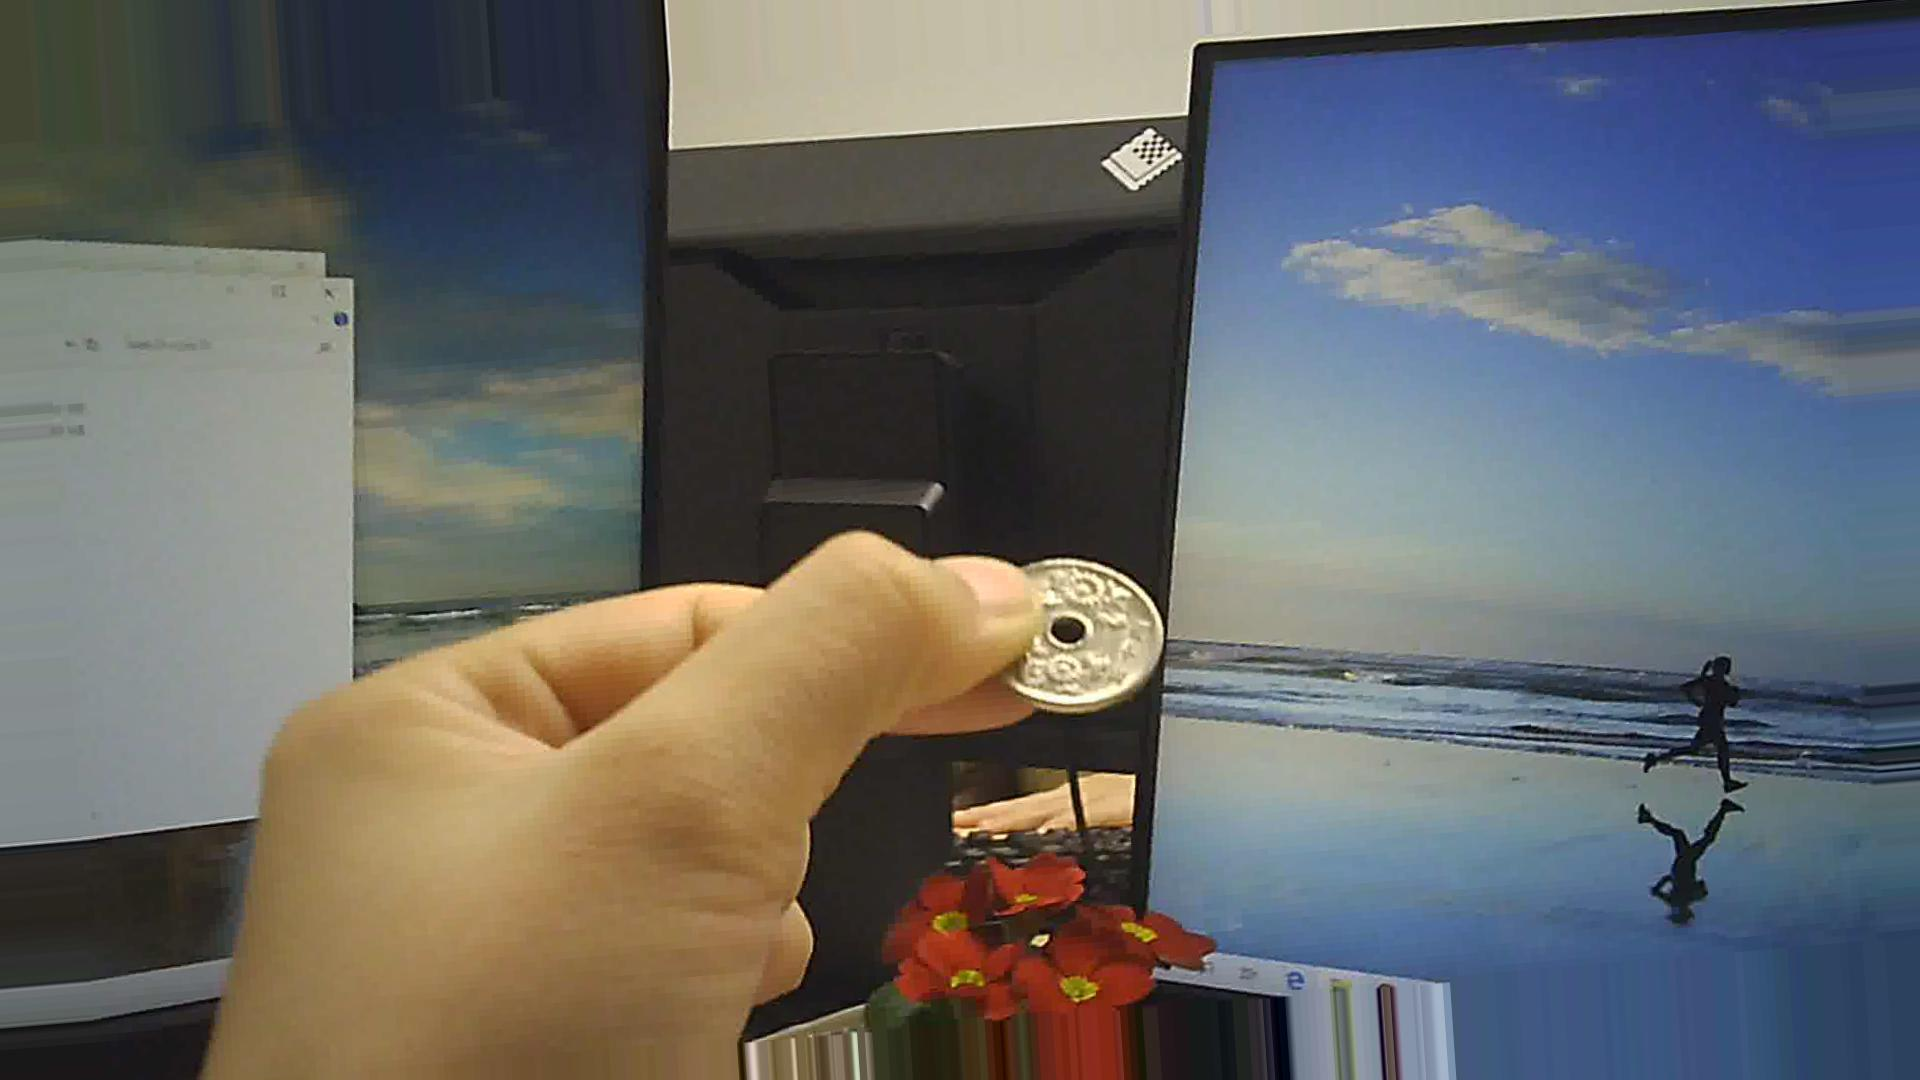50 Yen: (988, 549, 1162, 729)
